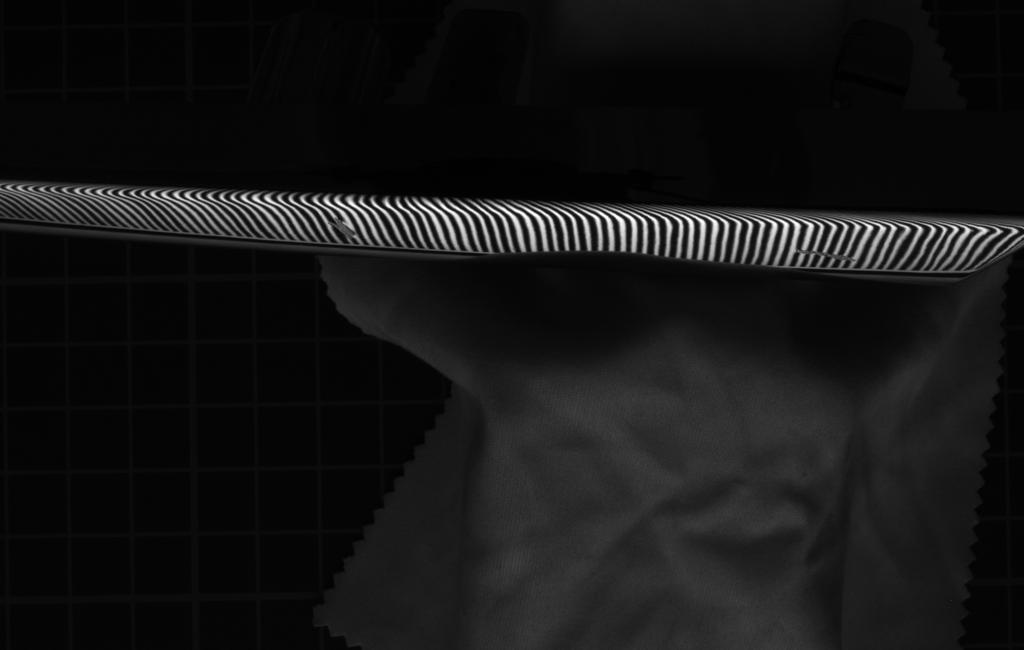Scratch: (793, 243, 866, 266), (326, 210, 362, 242)
